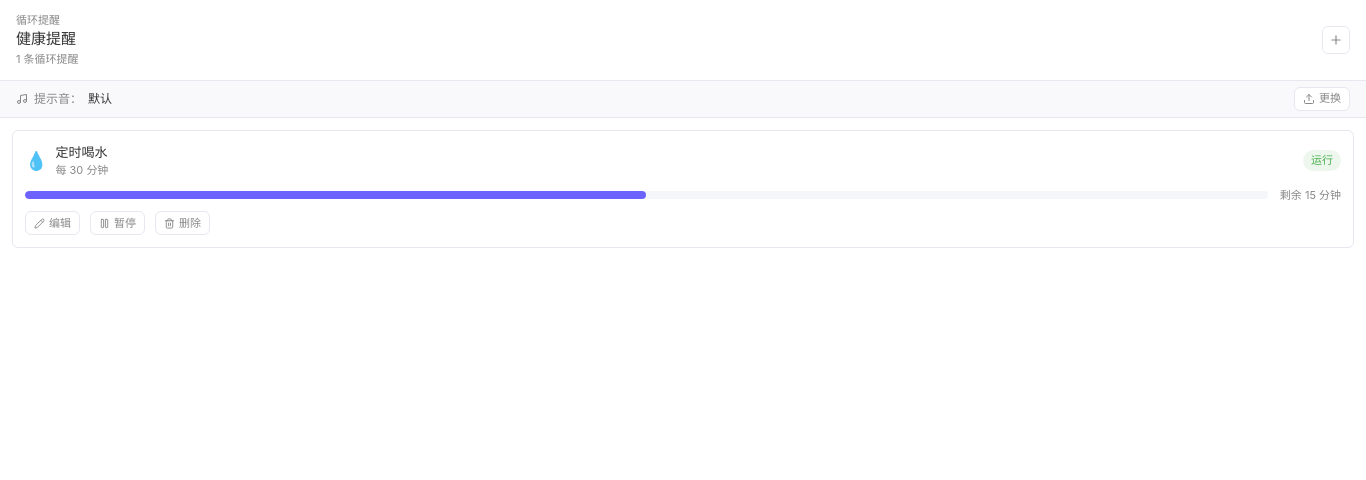
Test: HealthWindow › closes the edit form when deleting the reminder being edited
Click the button with aria-label "编辑：定时喝水": (52, 223) [25,211,80,235]
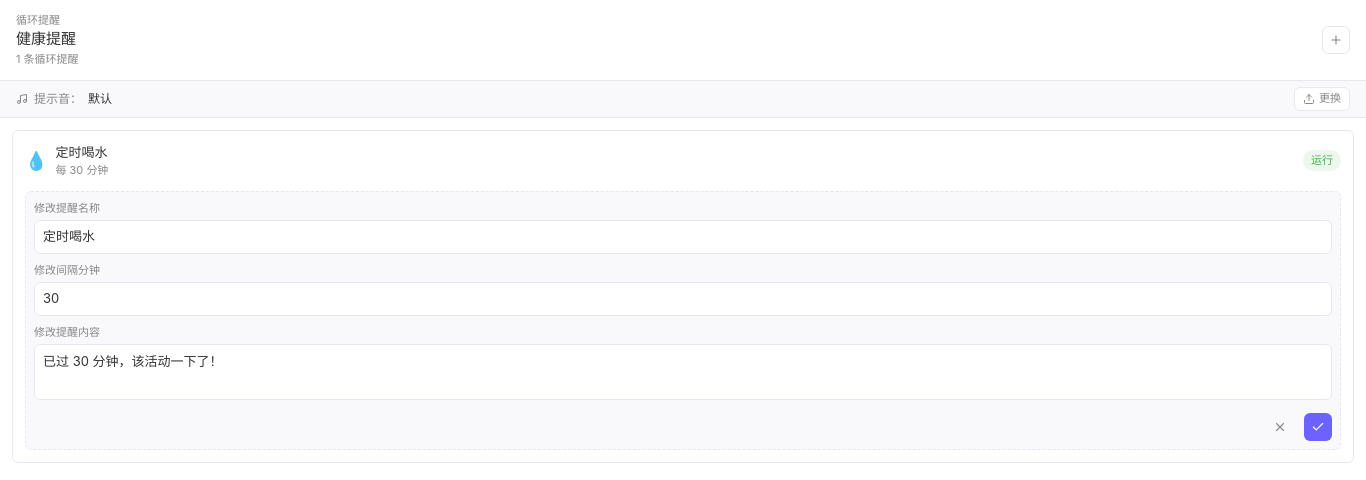
Now the field labelled "修改提醒名称" is shown, box [34,220,1332,254]
Click the button named "取消修改": (1280, 427) [1266,413,1294,441]
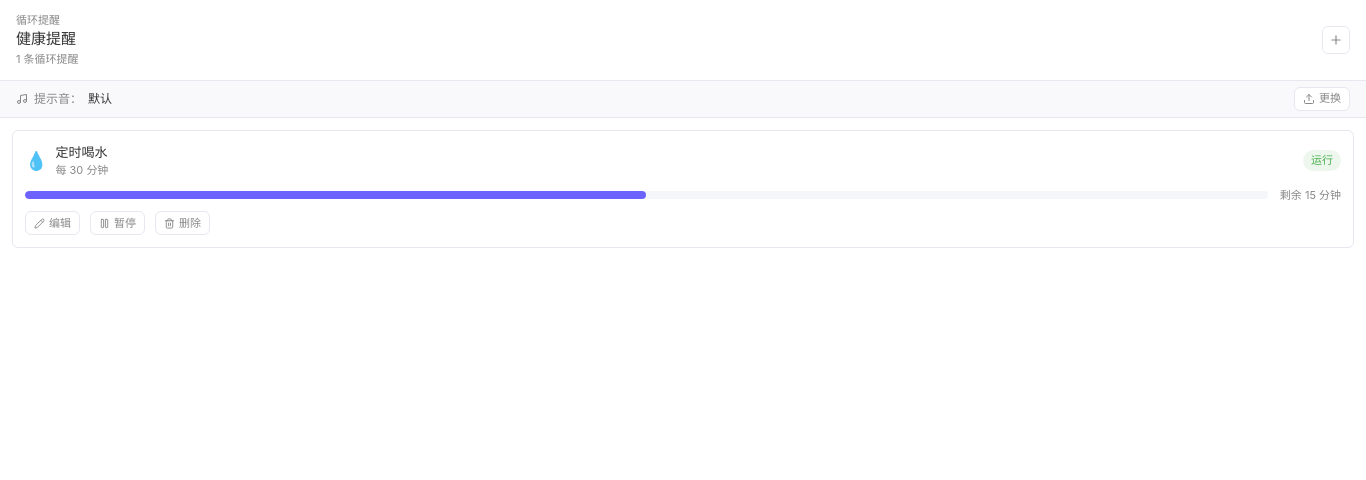
Now the label labelled "修改提醒名称" is gone
Now the button with aria-label "删除：定时喝水" is shown, box [155,211,210,235]
